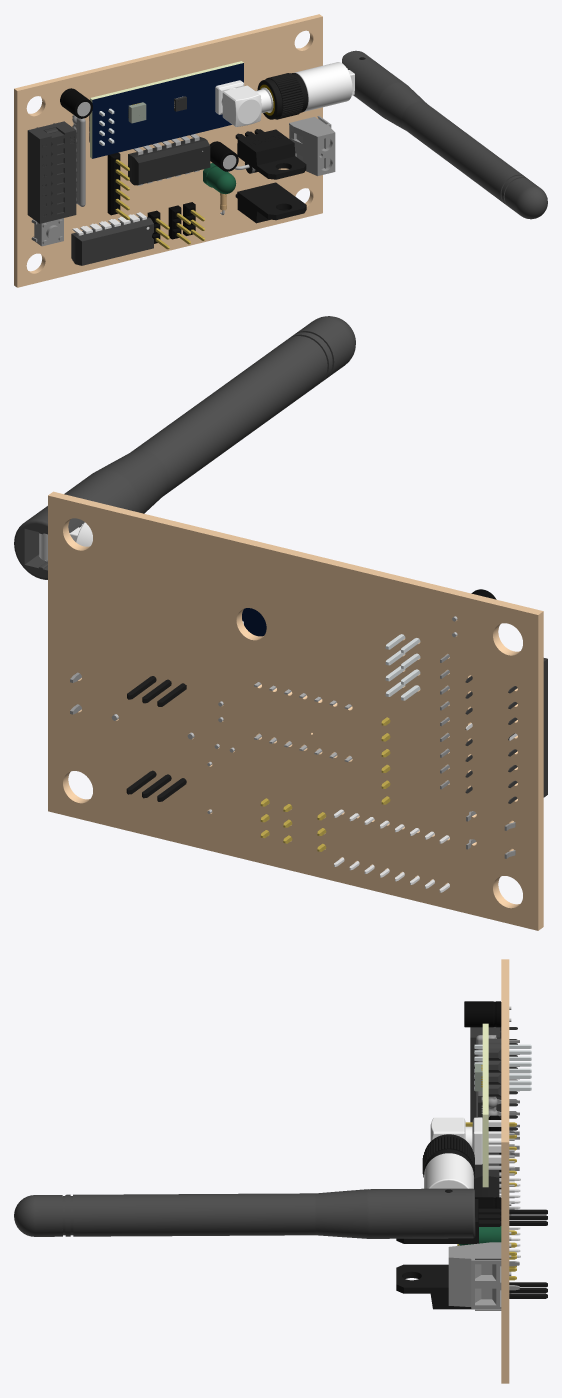
3 renders of one model, top to bottom at view 1: azimuth 30°, elevation 25°; view 2: azimuth 150°, elevation 25°; view 3: azimuth 270°, elevation 25°, orthographic. The views are drawn at different scales.
Parts seen in each view (by area): view 1: Board, Body1 (×7), Body2 (×13), Body17; view 2: Board, Body1, Body2 (×4); view 3: Body1 (×5), Body2 (×6), Board, Body17.
Boxes of the visible parts, x1,y1,x2,y2 form: Board: (14, 14, 322, 287); Body1 (×7): (31, 50, 547, 246); Body2 (×13): (27, 88, 335, 265); Body17: (128, 136, 210, 185); Board: (48, 491, 543, 930); Body1: (14, 316, 355, 579); Body2 (×4): (126, 658, 547, 892); Body1 (×5): (14, 1023, 501, 1238); Body2 (×6): (396, 1001, 547, 1310); Board: (501, 959, 509, 1383); Body17: (474, 1153, 499, 1197).
Bounding box in the file's own units: 92.23 × 50.81 × 102.
